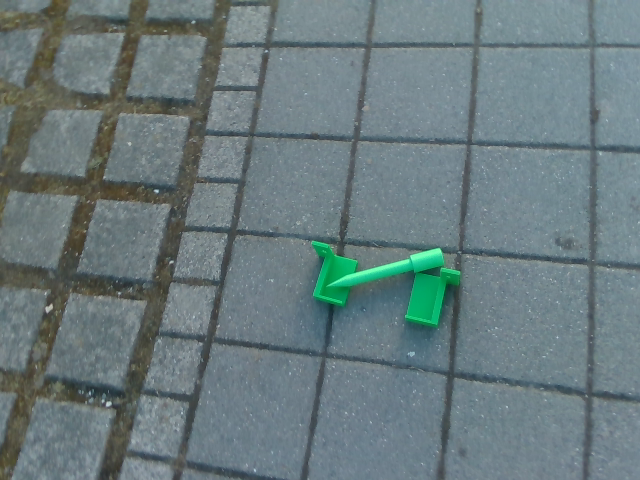Probe: (321, 243, 448, 294)
